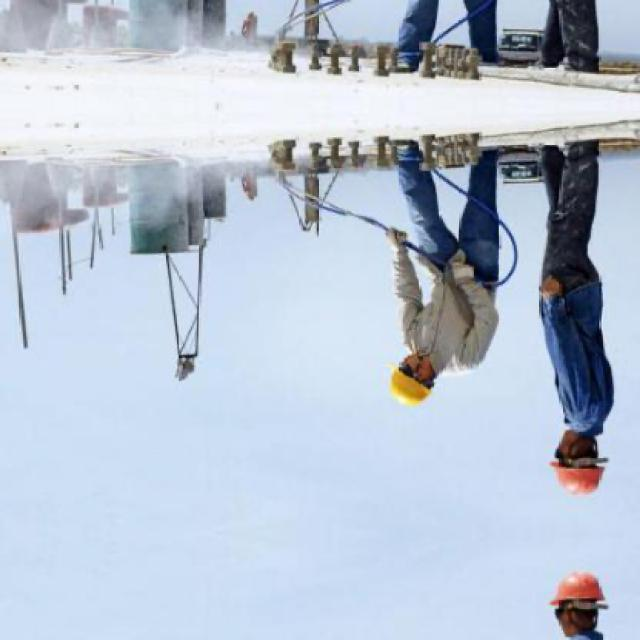con casco: (544, 390, 622, 516), (382, 317, 470, 408)
